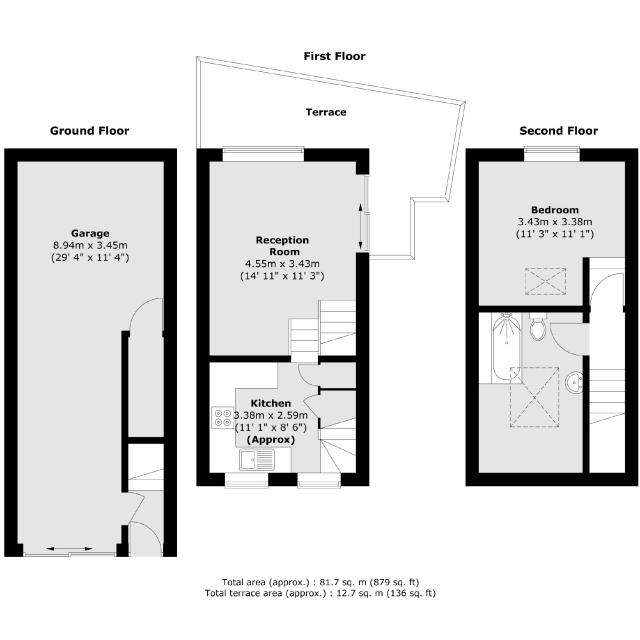DOOR: (549, 321, 590, 357), (589, 272, 624, 313)
ROOM: (196, 145, 370, 363), (465, 145, 639, 313), (196, 355, 370, 489)
WINDOW: (221, 145, 305, 163), (523, 145, 581, 162), (224, 472, 269, 490), (297, 472, 342, 489)
